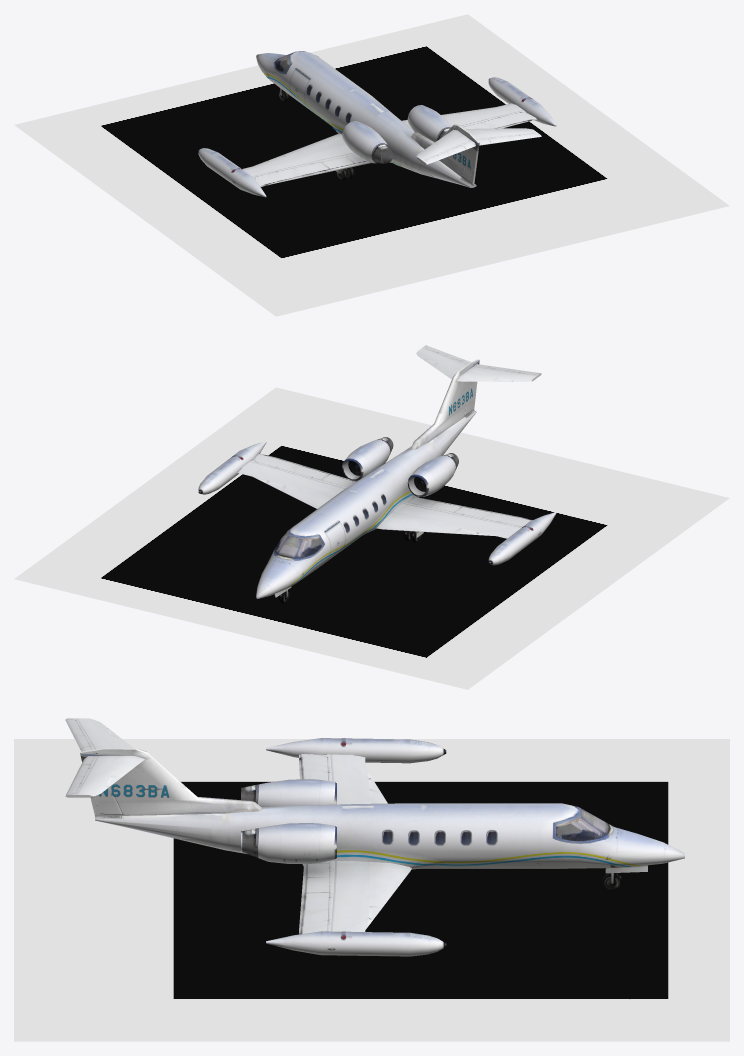
The model's file is Cyan_Yellow_N683BA.gltf.
3 renders of one model, top to bottom at view 1: azimuth 30°, elevation 25°; view 2: azimuth 150°, elevation 25°; view 3: azimuth 270°, elevation 25°, orthographic. The views are drawn at different scales.
Parts seen in each view (by area): view 1: Cyan_Yellow_N683BA; view 2: Cyan_Yellow_N683BA; view 3: Cyan_Yellow_N683BA.
Boxes of the visible parts, left/top/right/bottom form: Cyan_Yellow_N683BA: left=14, top=14, right=729, bottom=316; Cyan_Yellow_N683BA: left=14, top=345, right=729, bottom=689; Cyan_Yellow_N683BA: left=14, top=718, right=729, bottom=1041.
Bounding box in the file's own units: 16.89 × 3.7 × 16.89.
2 materials, 2 textured.
